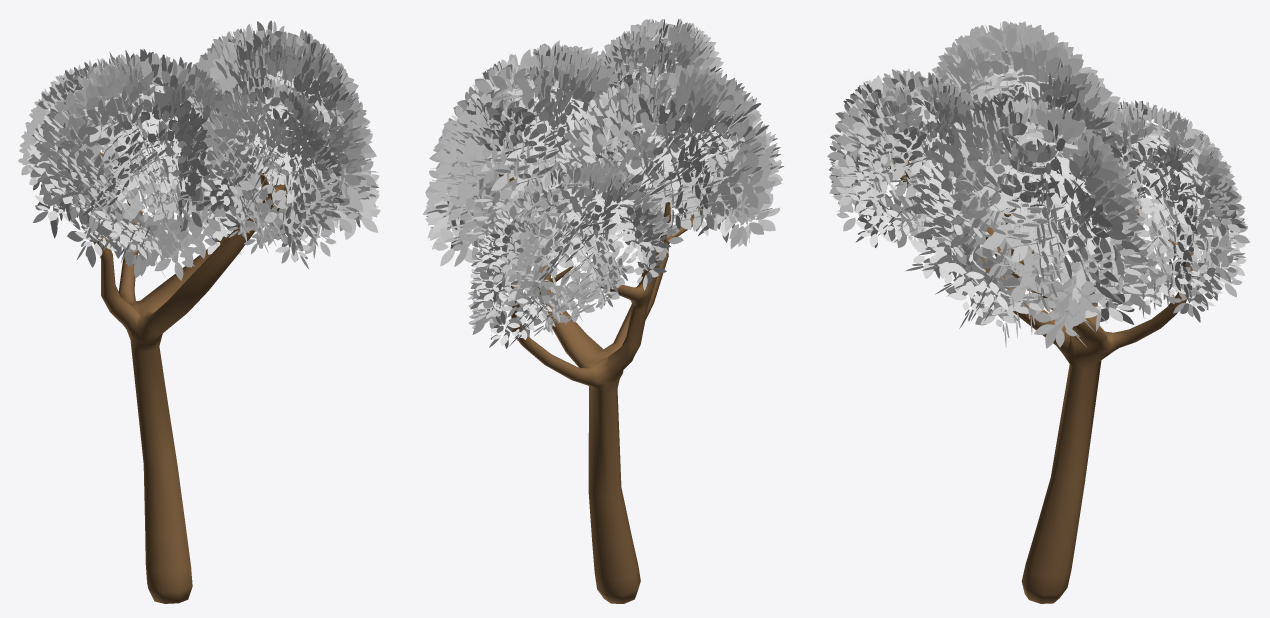
File: cedro_teste2.fbx
3 views of the same model, side by side, from view 1: azimuth 30°, elevation 25°; view 2: azimuth 150°, elevation 25°; view 3: azimuth 270°, elevation 25° (orthographic). The views are drawn at different scales.
Visible parts, largest first — view 1: Leaf.001, Cedro_Crescido; view 2: Leaf.001, Cedro_Crescido; view 3: Leaf.001, Cedro_Crescido.
Part boxes in pixels (x1,y1,x2,y2): Leaf.001: (18,20,380,280); Cedro_Crescido: (79,129,329,603); Leaf.001: (423,18,783,348); Cedro_Crescido: (499,148,703,603); Leaf.001: (827,21,1249,348); Cedro_Crescido: (873,137,1198,603).
Size of the model in its own units: 421 by 657 by 471.
